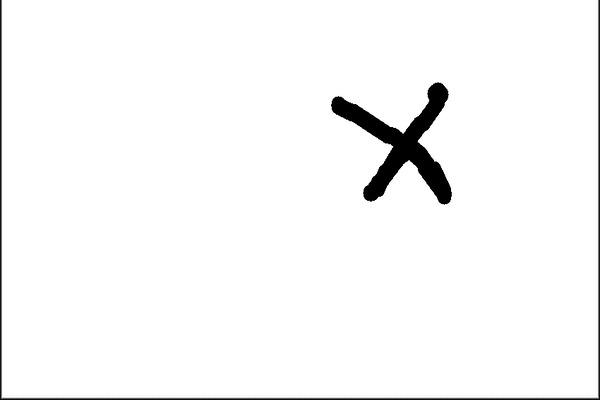X: (312, 65, 481, 242)
